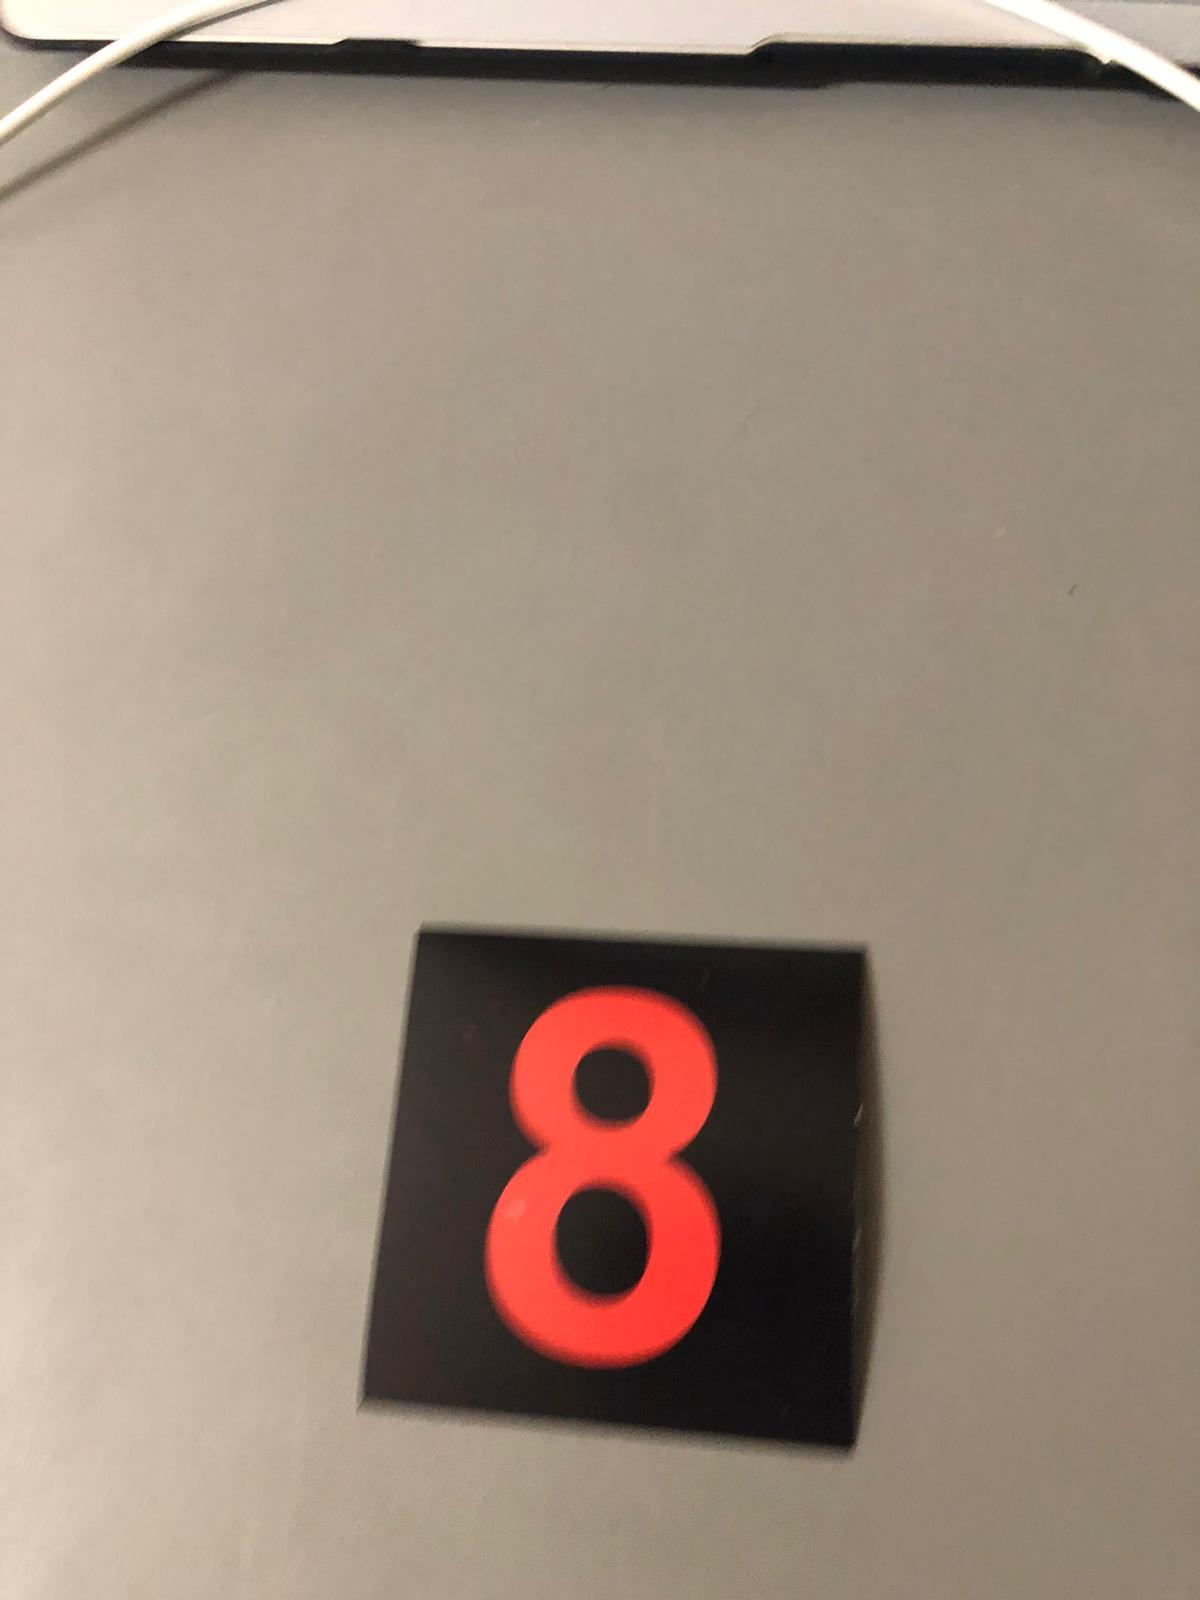Number 8: (407, 944, 821, 1429)
